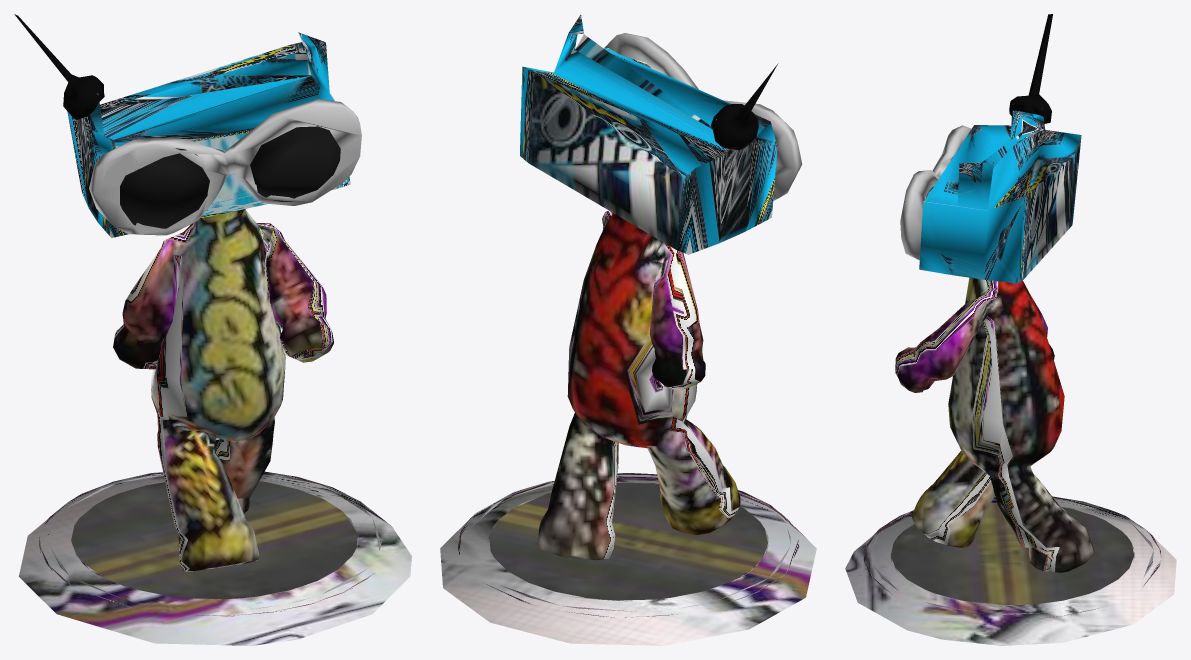
3 renders of one model, left to right at view 1: azimuth 30°, elevation 25°; view 2: azimuth 150°, elevation 25°; view 3: azimuth 270°, elevation 25°, orthographic. The views are drawn at different scales.
Bounding box in the file's own units: 1.47 × 2.32 × 1.43.
Materials: 8 (4 with a texture image).
